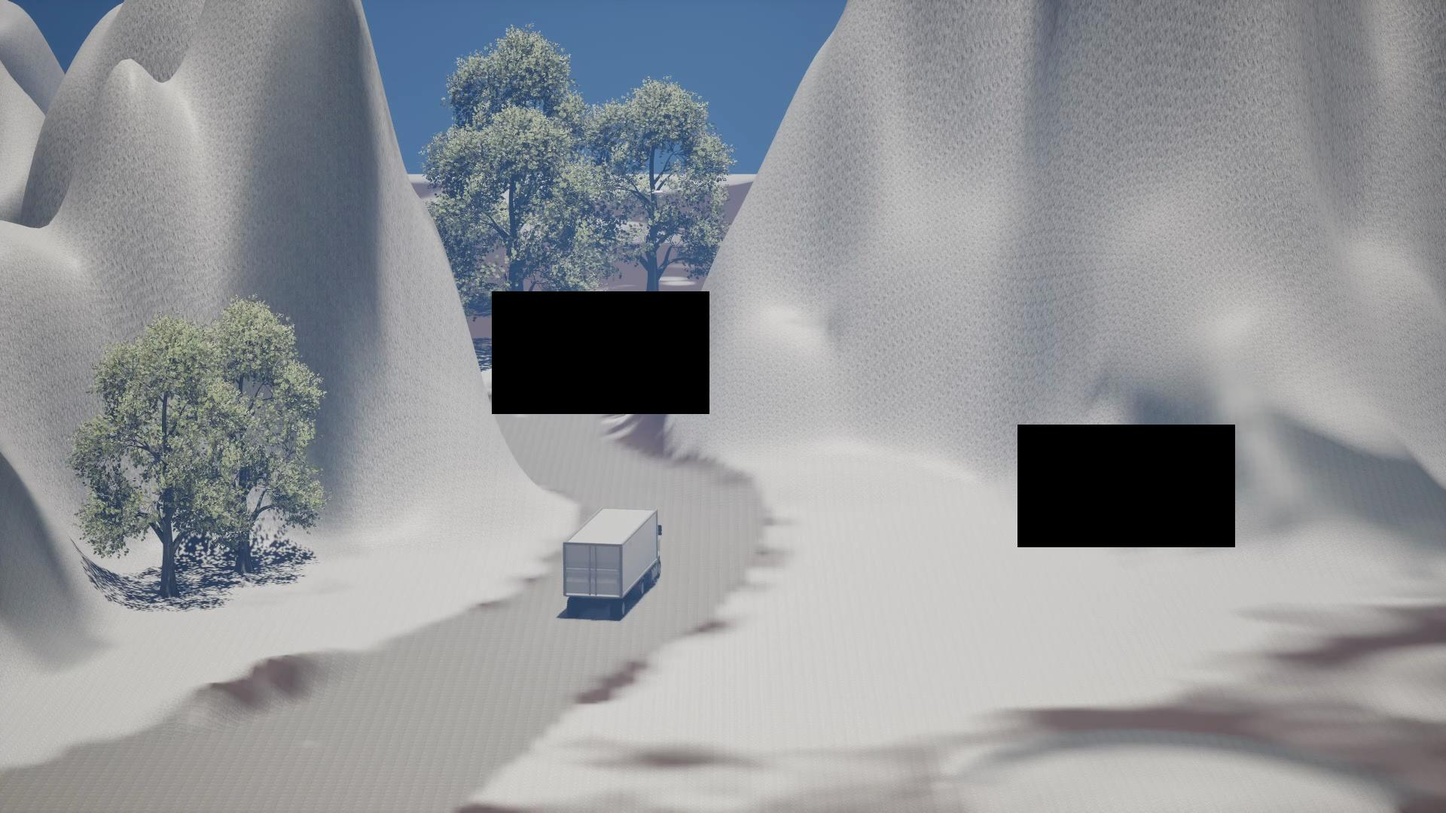truck: (557, 508, 660, 621)
